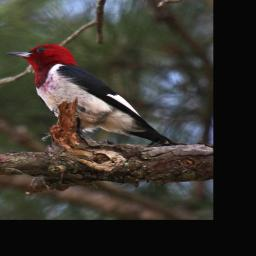Woodpecker: (2, 42, 188, 147)
